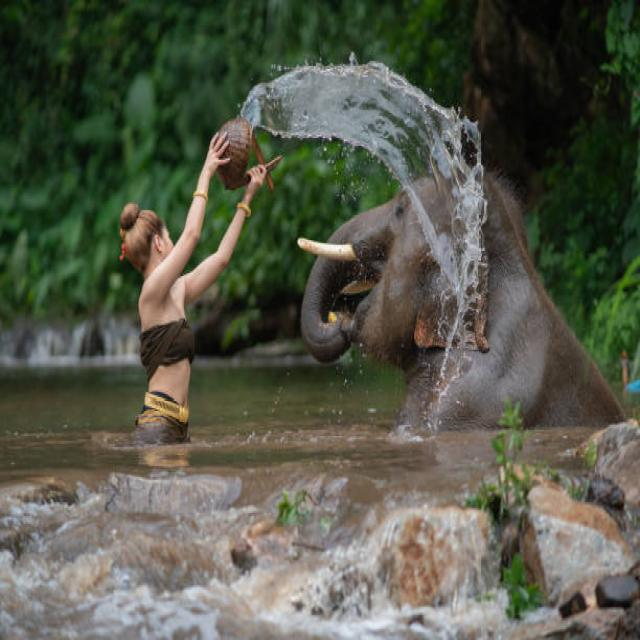Elephant: (280, 154, 640, 441)
